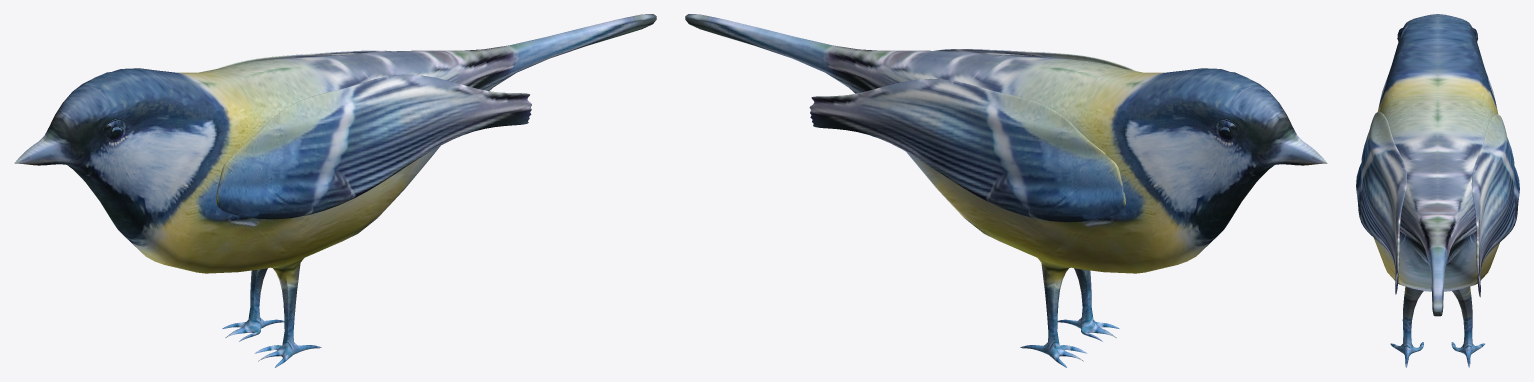
File: titmouse.gltf
The picture shows the model from 3 angles, left to right: view 1: azimuth 30°, elevation 25°; view 2: azimuth 150°, elevation 25°; view 3: azimuth 270°, elevation 25°; orthographic projection. The views are drawn at different scales.
Parts seen in each view (by area): view 1: Cube; view 2: Cube; view 3: Cube.
Boxes of the visible parts, bbox=[...] form: Cube: bbox=[14, 14, 656, 367]; Cube: bbox=[685, 14, 1327, 367]; Cube: bbox=[1356, 14, 1519, 367].
Bounding box in the file's own units: 255 × 114 × 63.26.
Materials: 2 (2 with a texture image).
